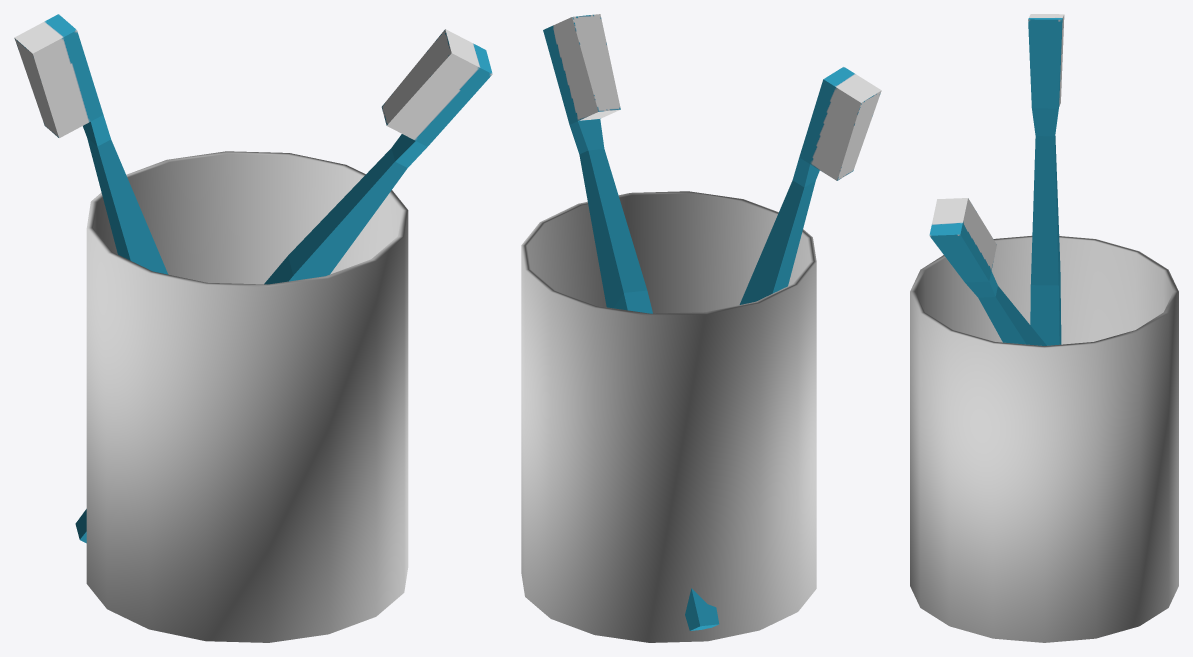
The model's file is toothbrush.obj.
3 renders of one model, left to right at view 1: azimuth 30°, elevation 25°; view 2: azimuth 150°, elevation 25°; view 3: azimuth 270°, elevation 25°, orthographic. The views are drawn at different scales.
Visible parts, largest first — view 1: obj1, obj3, obj2; view 2: obj1, obj3, obj2; view 3: obj1, obj2, obj3.
Part boxes in pixels (left/top/right/bottom): obj1: left=86, top=151, right=408, bottom=642; obj3: left=75, top=29, right=492, bottom=543; obj2: left=14, top=14, right=168, bottom=274; obj1: left=521, top=191, right=816, bottom=642; obj3: left=543, top=14, right=719, bottom=630; obj2: left=739, top=66, right=881, bottom=304; obj1: left=910, top=235, right=1178, bottom=642; obj2: left=1028, top=14, right=1064, bottom=345; obj3: left=929, top=198, right=1046, bottom=345.
Size of the model in its own units: 0.887 by 1.23 by 0.6062.
2 materials, 1 textured.
